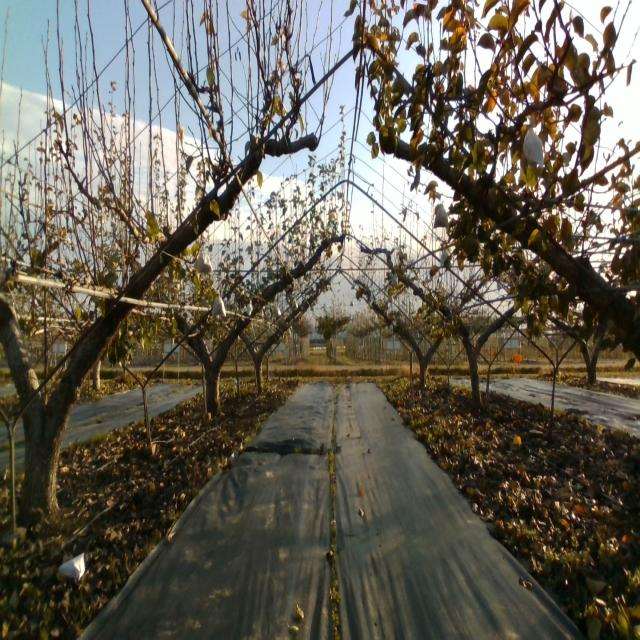pearbags: (522, 112, 545, 169), (433, 203, 451, 230), (195, 248, 212, 276), (212, 289, 226, 318)
